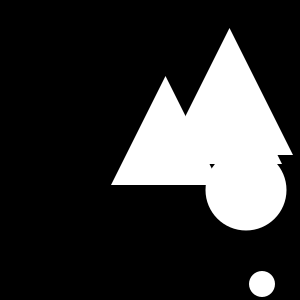rectangle: (205, 150, 286, 230), (249, 271, 275, 297)
triangle: (166, 28, 293, 155), (111, 76, 220, 185), (183, 65, 282, 164)
